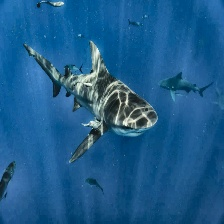shark: (22, 39, 158, 164), (159, 72, 215, 100)
